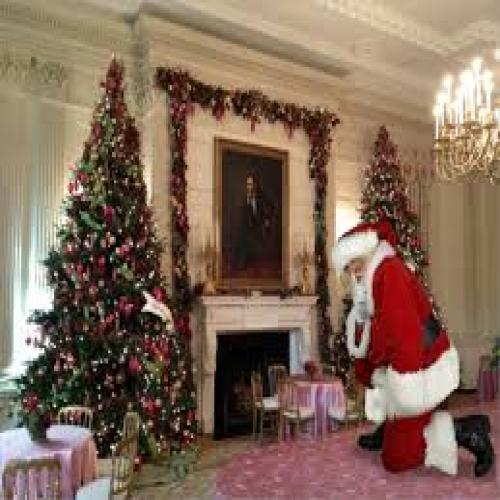Santa: (332, 220, 494, 478)
